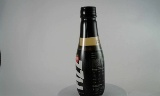appyfizz: (68, 5, 99, 95)
